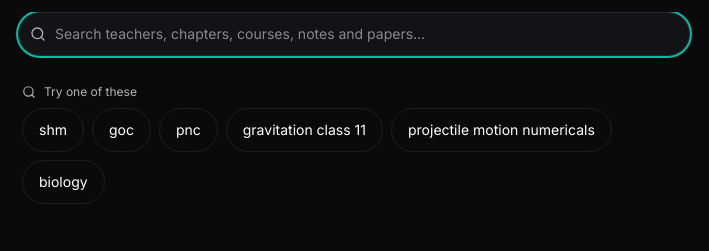
Test: what an empty search box shows › hides both once a query is being typed
The image size is (709, 251).
Expected: the text "Try one of these" is shown, [22, 84, 137, 100]
Type "rotational motion" into the dropdown at (354, 34), box [18, 12, 690, 56]
Wait 295 ms
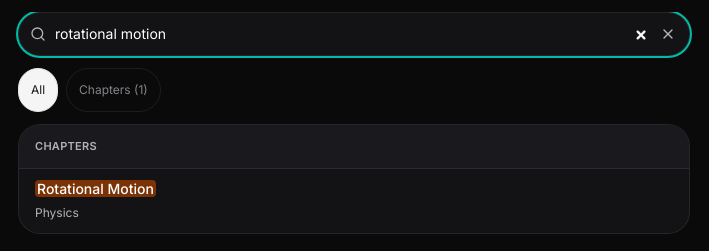
Expected: the text "Try one of these" is gone
